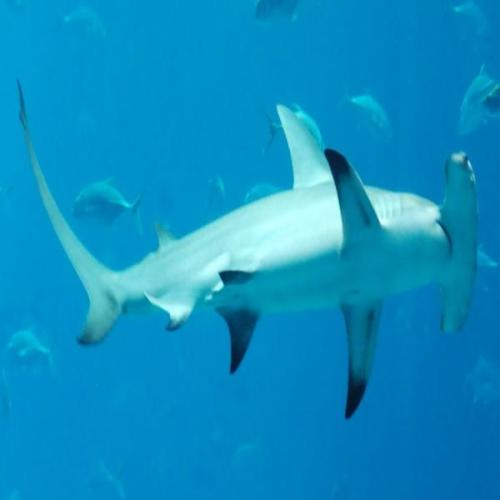shark-endangered: (13, 76, 482, 420)
